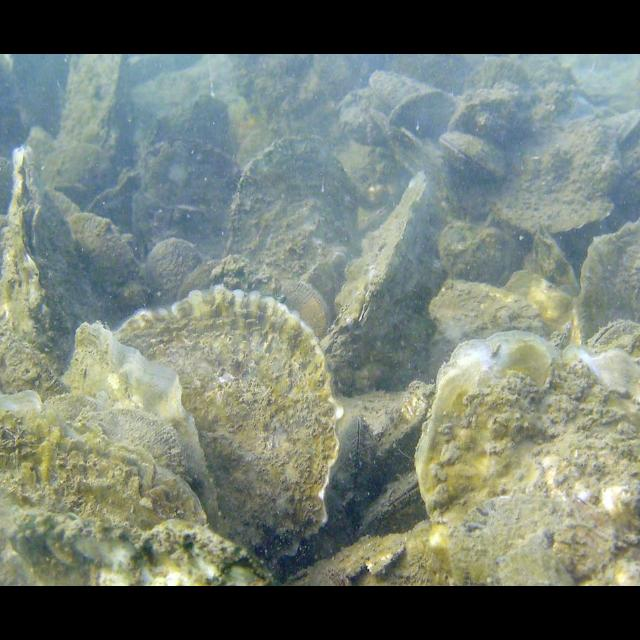Oyster-Closed: (112, 288, 346, 566), (415, 331, 639, 586), (0, 394, 207, 586), (322, 172, 448, 396), (2, 145, 108, 379), (224, 134, 361, 310), (14, 512, 277, 586), (487, 125, 619, 233), (133, 137, 242, 264), (449, 498, 567, 586), (64, 213, 150, 331), (60, 54, 125, 176), (76, 408, 186, 477), (579, 221, 639, 347), (432, 281, 549, 345), (439, 222, 527, 287), (556, 511, 618, 577), (333, 418, 380, 502), (452, 94, 522, 150), (146, 239, 202, 308), (502, 537, 579, 586), (530, 226, 579, 295), (388, 90, 457, 139), (440, 132, 505, 183), (576, 546, 639, 586), (368, 70, 436, 106), (190, 96, 234, 148), (605, 483, 639, 549), (464, 60, 528, 93), (44, 394, 107, 417), (624, 143, 639, 185)
Oyster-Open: (360, 472, 423, 536), (49, 182, 95, 218), (589, 320, 639, 348)
